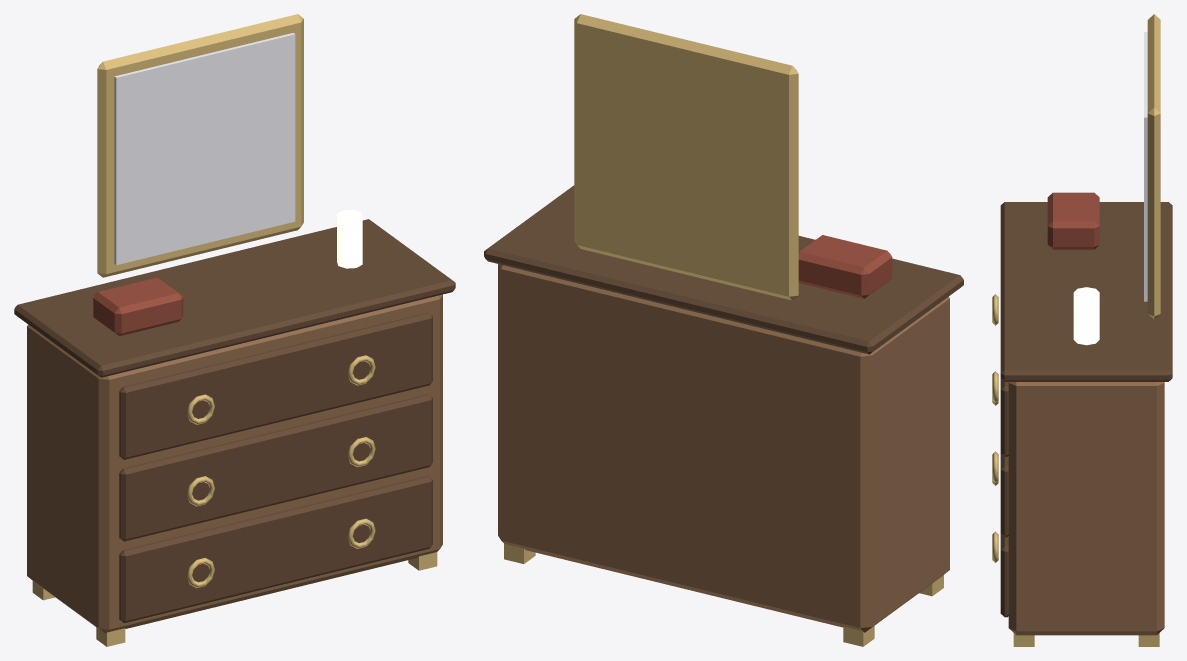
The model's file is hm_dresser.glb.
The picture shows the model from 3 angles, left to right: view 1: azimuth 30°, elevation 25°; view 2: azimuth 150°, elevation 25°; view 3: azimuth 270°, elevation 25°; orthographic projection. The views are drawn at different scales.
Parts seen in each view (by area): view 1: hm_dresser; view 2: hm_dresser; view 3: hm_dresser.
Part boxes in pixels (x1=…): hm_dresser: x1=14, y1=14, x2=455, y2=646; hm_dresser: x1=484, y1=14, x2=963, y2=646; hm_dresser: x1=992, y1=14, x2=1172, y2=646.
Size of the model in its own units: 1.56 by 2.15 by 0.692.
